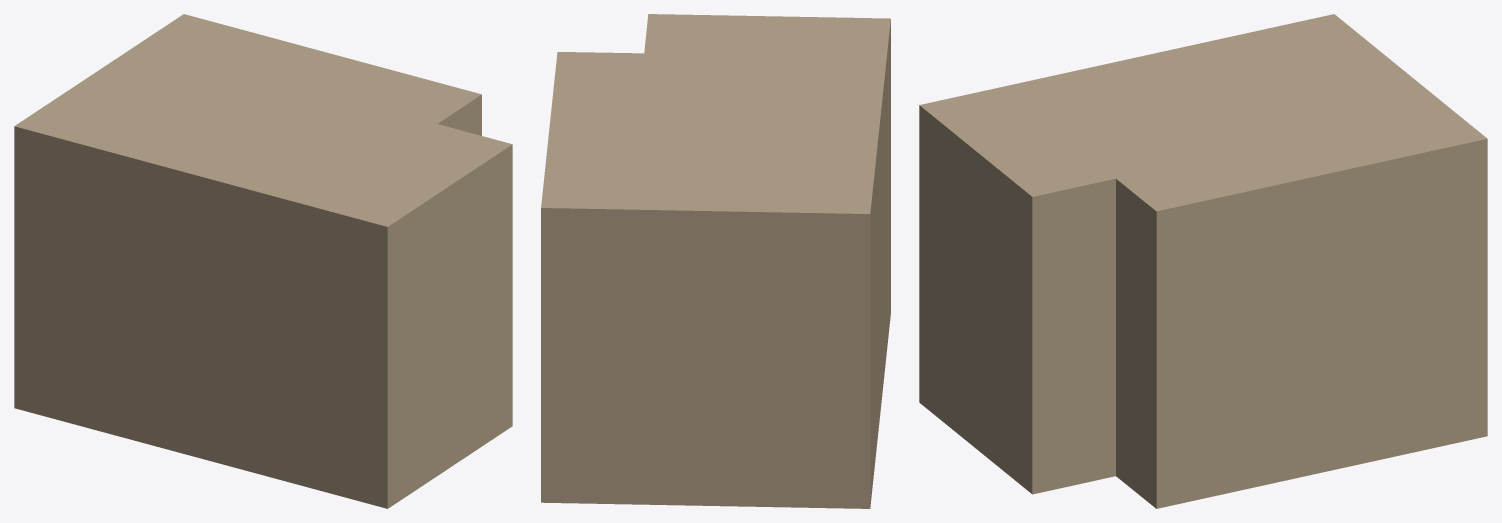
The model's file is bld_107610386.dae.
3 renders of one model, left to right at view 1: azimuth 30°, elevation 25°; view 2: azimuth 150°, elevation 25°; view 3: azimuth 270°, elevation 25°, orthographic. The views are drawn at different scales.
Parts seen in each view (by area): view 1: bld_107610386; view 2: bld_107610386; view 3: bld_107610386.
Boxes of the visible parts, left/top/right/bottom form: bld_107610386: left=14, top=14, right=512, bottom=508; bld_107610386: left=541, top=14, right=890, bottom=508; bld_107610386: left=919, top=14, right=1487, bottom=508.
Size of the model in its own units: 11.39 by 13.85 by 8.
